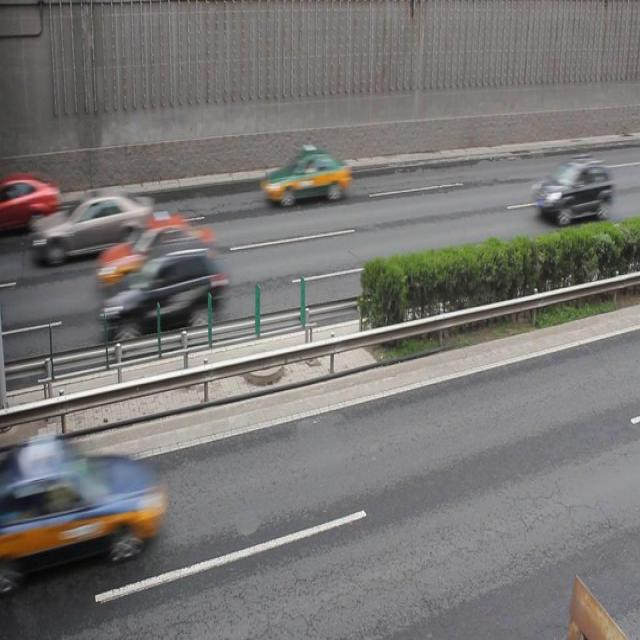car: (17, 430, 166, 577), (98, 240, 226, 340), (95, 214, 215, 290), (39, 188, 154, 261), (532, 158, 611, 225), (260, 148, 350, 205)
